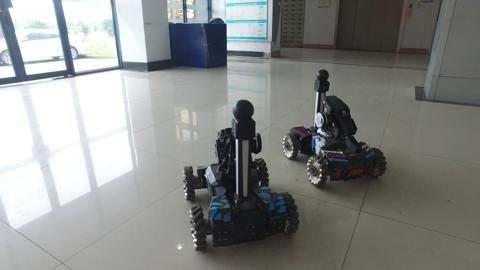chariot: (175, 98, 310, 250), (278, 66, 395, 187)
